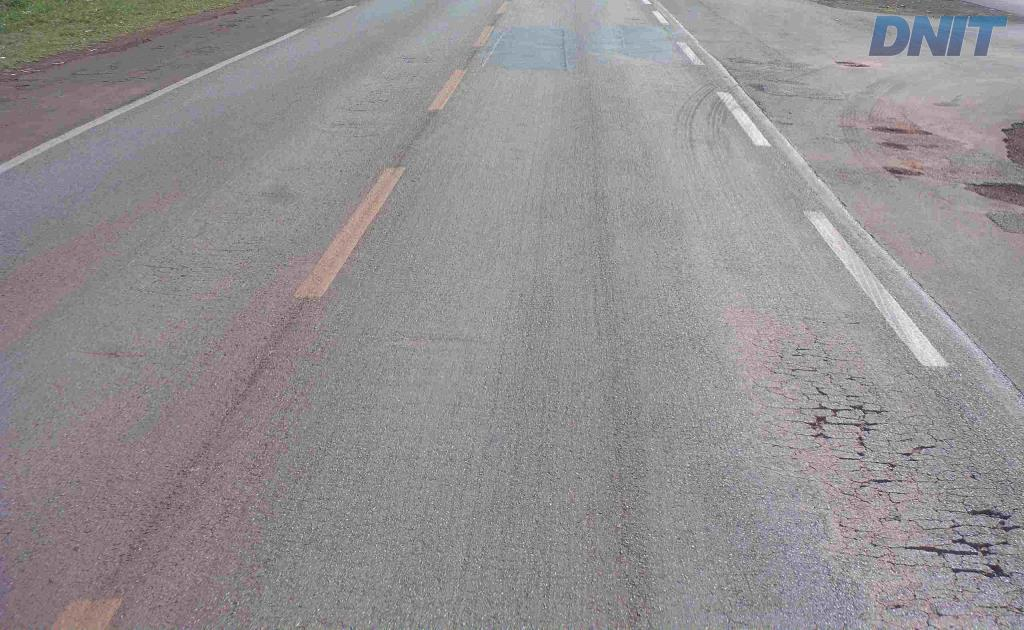crack: (885, 530, 997, 561), (942, 557, 1023, 599), (791, 399, 888, 433), (964, 504, 1023, 533)
